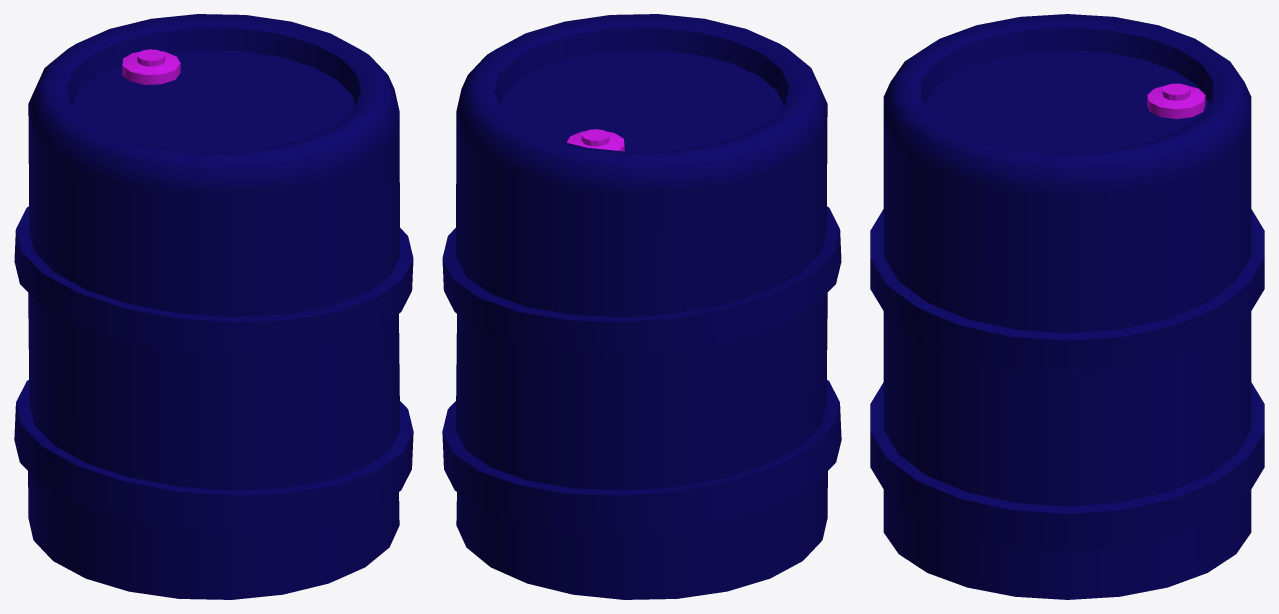
Rendered from barrel.FBX.
3 views of the same model, side by side, from view 1: azimuth 30°, elevation 25°; view 2: azimuth 150°, elevation 25°; view 3: azimuth 270°, elevation 25° (orthographic).
Parts seen in each view (by area): view 1: Cylinder006; view 2: Cylinder006; view 3: Cylinder006.
Part boxes in pixels (x1,y1,x2,y2): Cylinder006: (14,14,413,599); Cylinder006: (442,14,841,599); Cylinder006: (870,14,1264,599).
Size of the model in its own units: 195 by 234 by 192.
